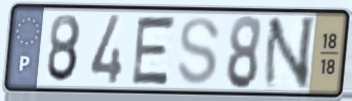4: (88, 11, 126, 89)
8: (224, 12, 263, 92), (44, 12, 83, 86)
E: (128, 13, 179, 88)
N: (260, 14, 320, 93)
S: (174, 15, 223, 88)
